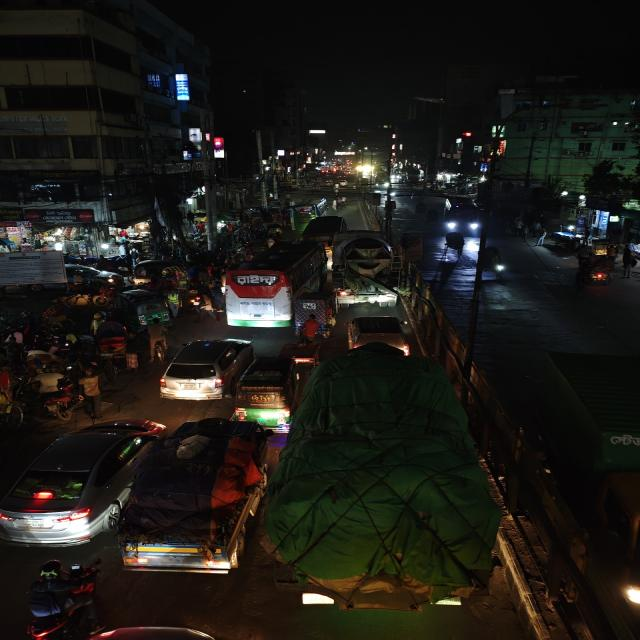bus: (536, 346, 640, 478), (221, 240, 330, 330), (290, 199, 318, 227)
car: (0, 415, 167, 545), (157, 336, 256, 404), (343, 313, 412, 355), (442, 196, 483, 237)
cng: (234, 356, 303, 426), (119, 290, 172, 326), (134, 260, 183, 290)
motorcycle: (17, 558, 103, 640), (27, 366, 77, 420), (183, 282, 216, 318)
pedestrian: (77, 370, 105, 418), (142, 319, 171, 361), (299, 313, 323, 343), (619, 250, 638, 278)
pickup_van: (264, 352, 501, 617)
rickshaw: (112, 438, 271, 574), (86, 320, 133, 377), (294, 290, 338, 339), (0, 370, 25, 456), (573, 253, 615, 287), (479, 244, 510, 282), (441, 233, 468, 259)
